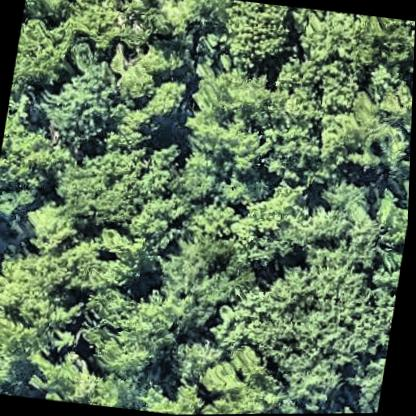tree-top: (234, 250, 393, 398), (178, 59, 295, 176), (73, 272, 188, 385), (0, 241, 84, 393), (36, 40, 136, 158), (56, 143, 151, 236), (0, 100, 69, 222), (290, 8, 375, 106), (231, 176, 318, 269), (162, 232, 258, 313), (331, 78, 414, 170), (216, 0, 303, 71), (29, 348, 125, 407), (309, 179, 381, 256), (205, 346, 285, 415), (12, 7, 78, 86), (128, 0, 213, 50), (138, 66, 193, 138), (163, 153, 227, 213), (21, 200, 85, 260), (65, 0, 129, 54), (146, 370, 210, 415), (369, 195, 410, 249), (119, 50, 161, 98), (396, 20, 415, 82), (322, 404, 378, 414)
